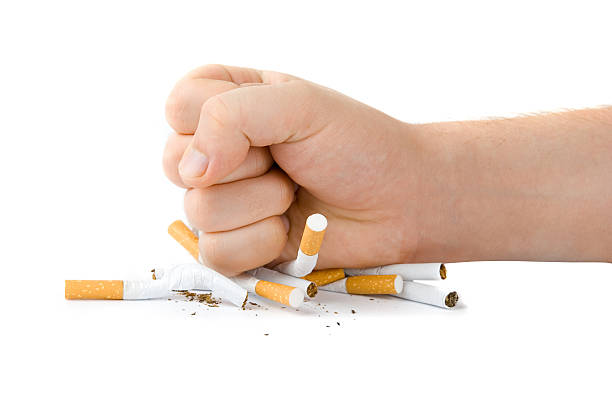cigarette: (62, 262, 249, 309), (272, 211, 328, 278), (227, 273, 306, 310), (246, 267, 319, 300), (345, 262, 449, 281), (167, 218, 207, 266), (394, 280, 459, 309), (316, 274, 404, 295), (307, 267, 346, 287)
